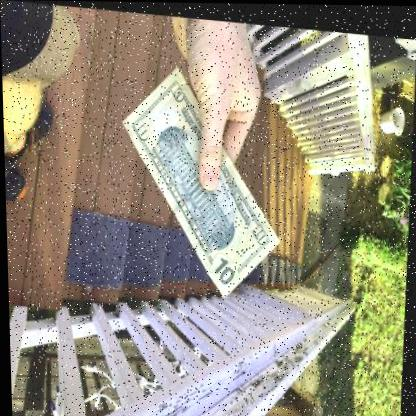dollar_back: (123, 64, 282, 295)
